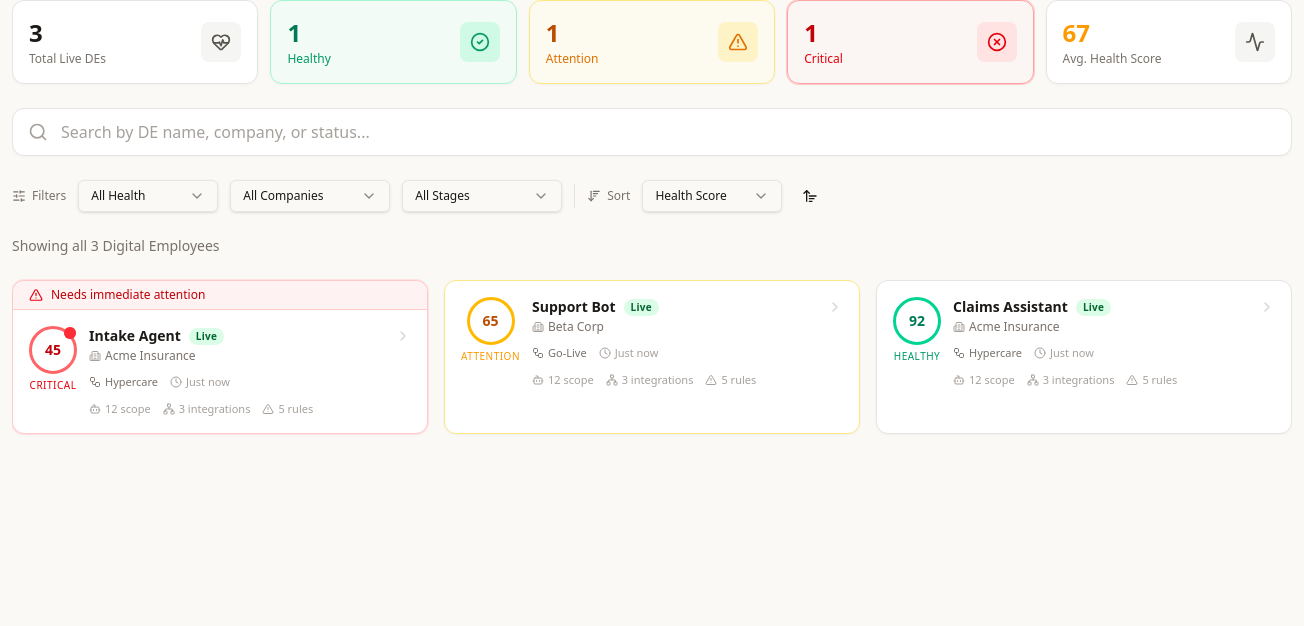
Test: SupportDashboardClient › shows clear search button when search has value
Step 1. Type "test" into the field with placeholder "Search by DE name, company, or status..." → {"x": 652, "y": 132}, box [12,108,1292,156]
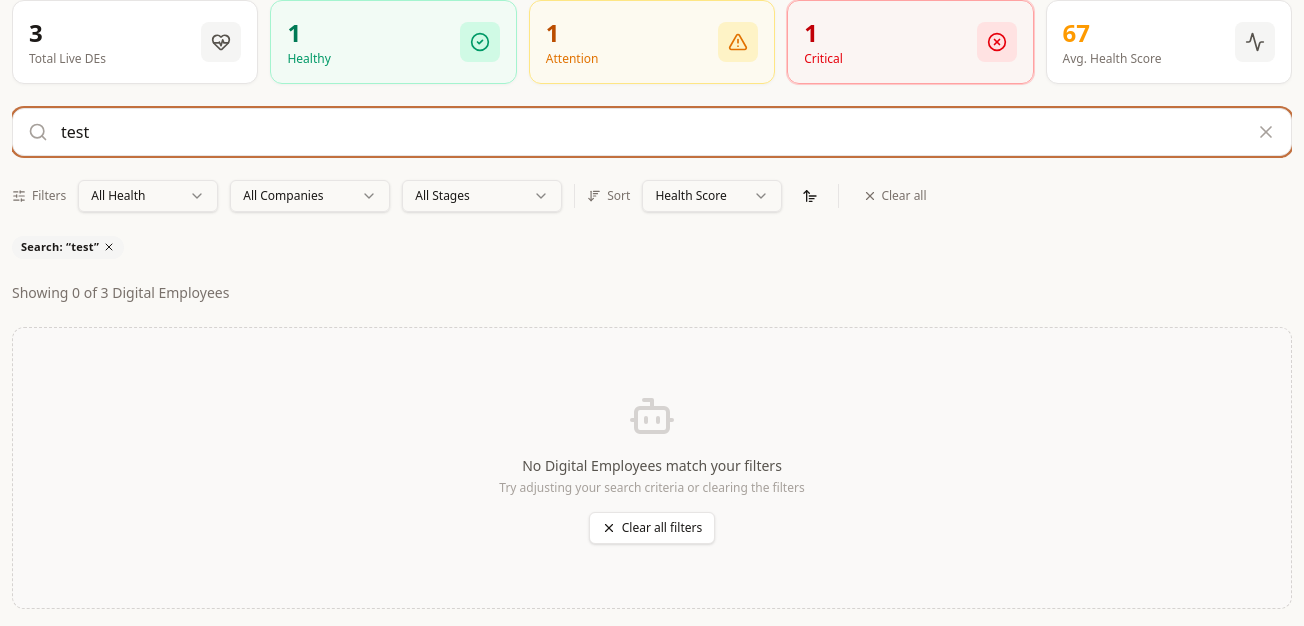
expect the button named "Clear search" is shown: met, box [1256,122,1276,142]
